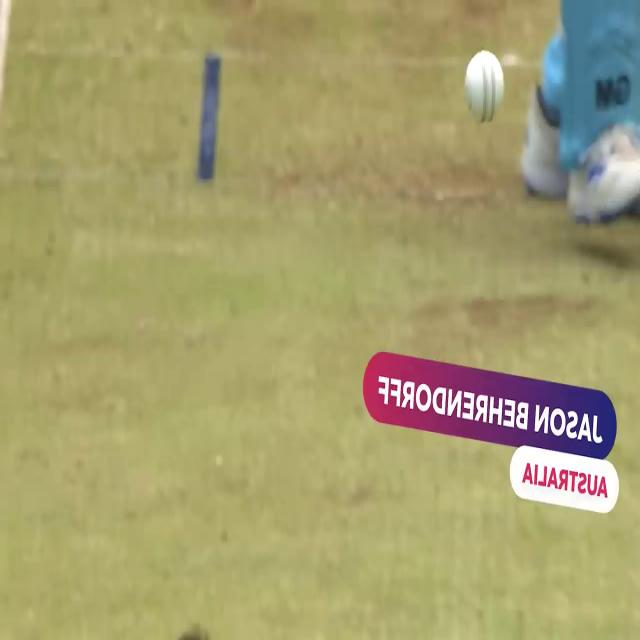ball: (453, 40, 512, 138)
